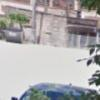cars: (11, 81, 99, 100)
